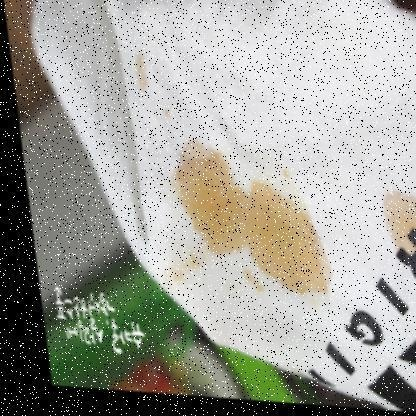coffee: (184, 152, 246, 251), (252, 198, 309, 272)
